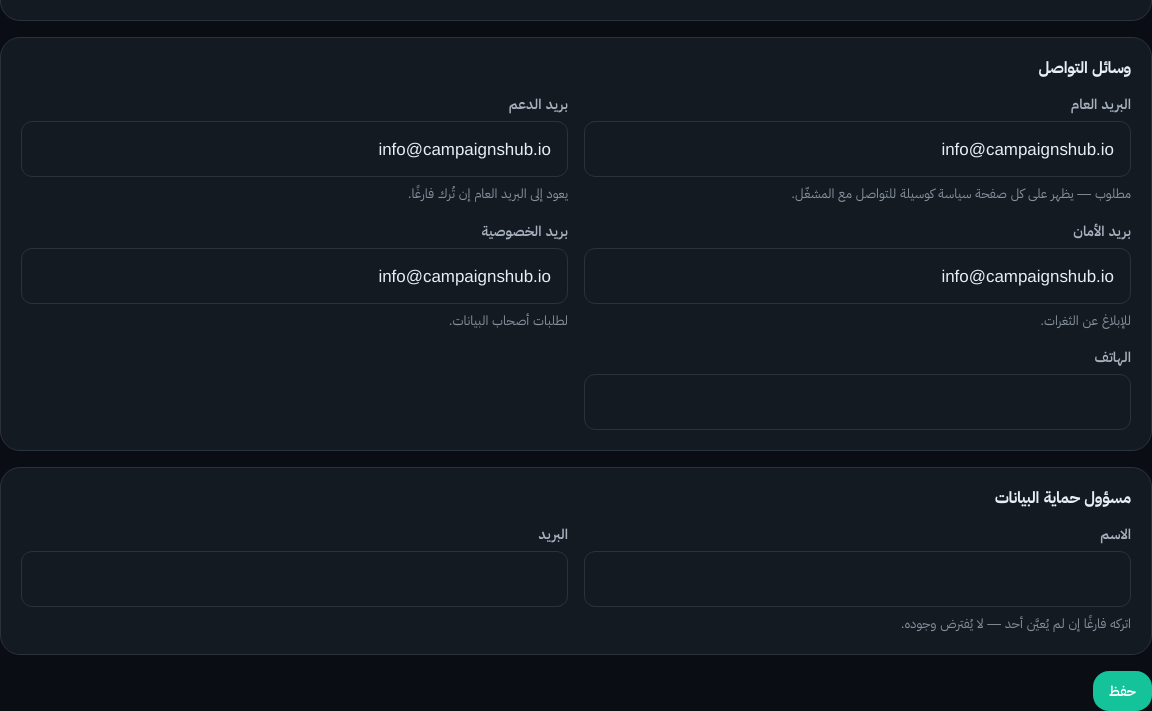
Test: PlatformLegalPage › surfaces the reason a save was refused
The width and height of the screenshot is (1152, 711).
(page scrolled)
What coordinates should you click on to do the following:
click the button with test id "platform-save"
I would click on:
 (1123, 691)
Its box is [1093,671,1151,710].
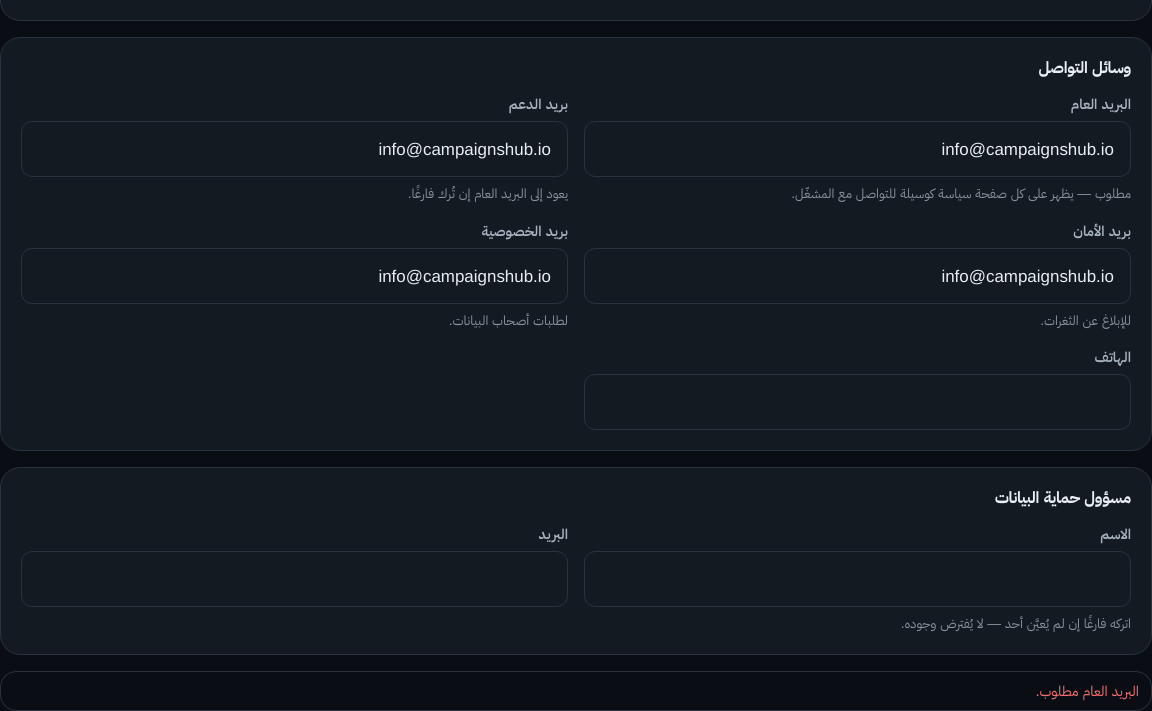
Result: the text "البريد العام مطلوب." is shown at [0,671,1151,710]
